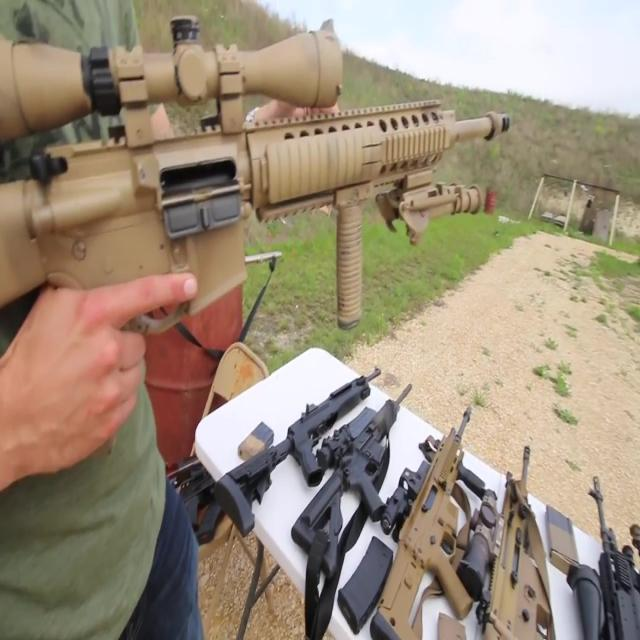Weapon: (0, 17, 529, 334), (170, 350, 640, 640)
